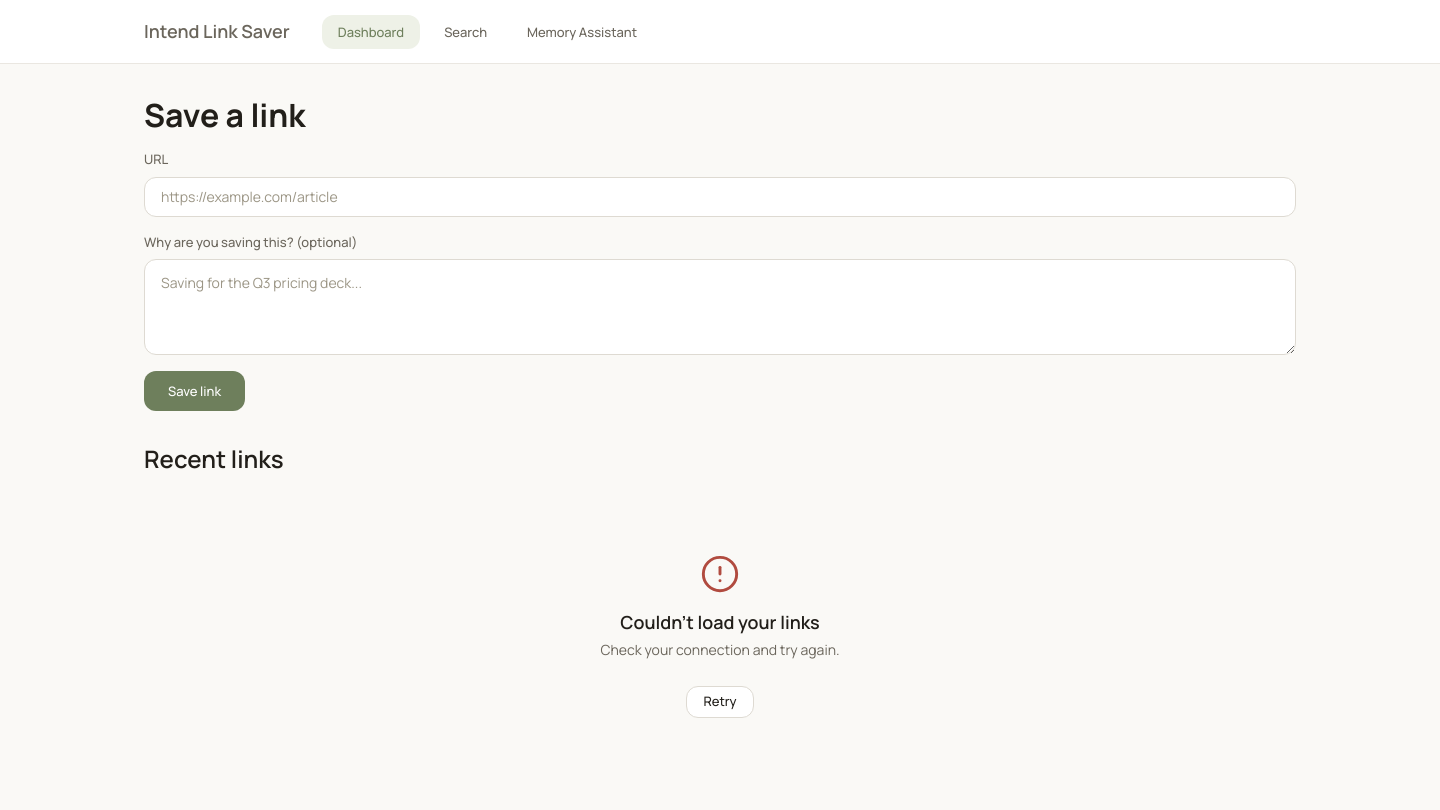
Scenario: HomePage › shows an error state and retries on demand
Check: the heading "Couldn't load your links" is shown, box [620,610,820,635]
Step 1. Click the button "Retry" → [720, 702], box [686,686,754,718]
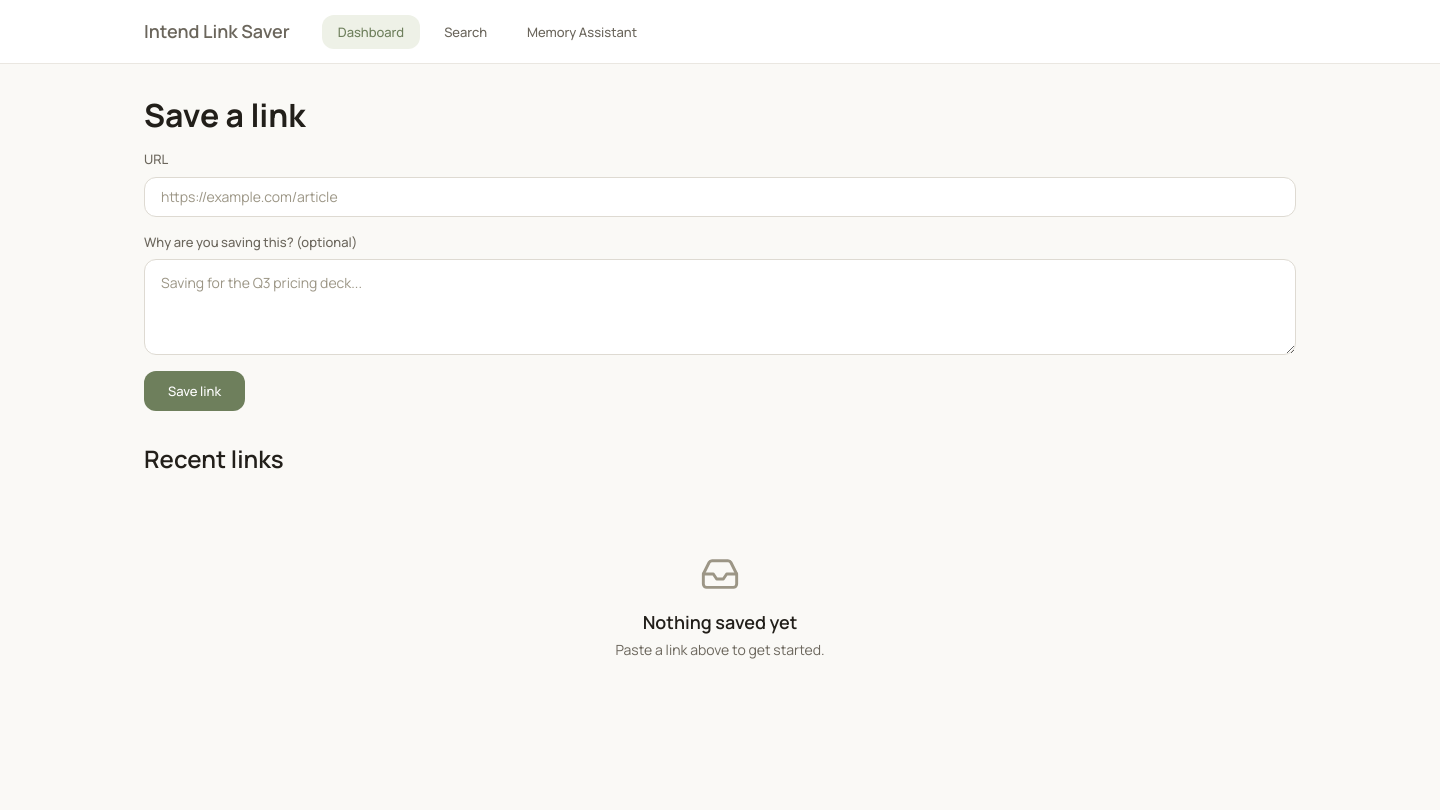
Check: the heading "Nothing saved yet" is shown, box [643,610,797,635]
